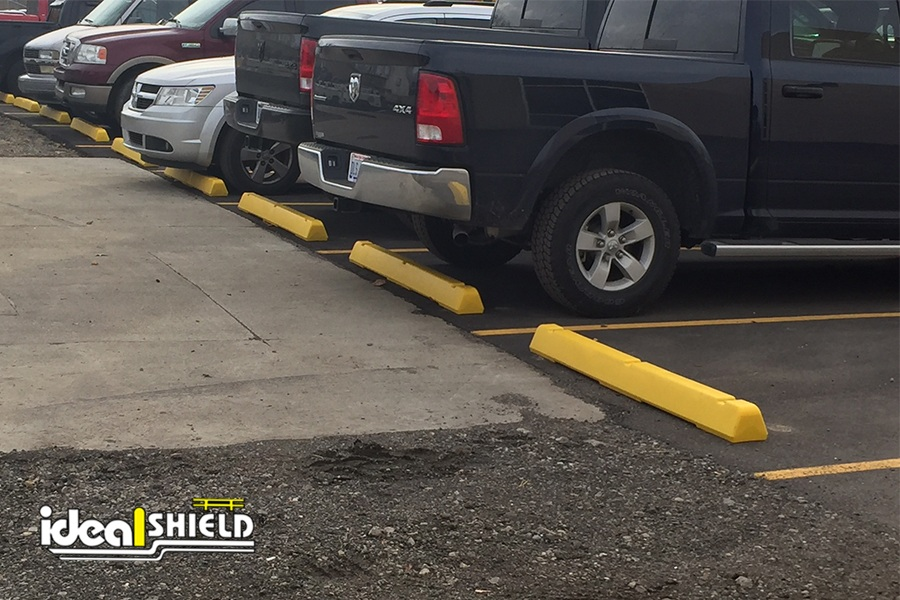empty_space: (464, 285, 900, 482)
